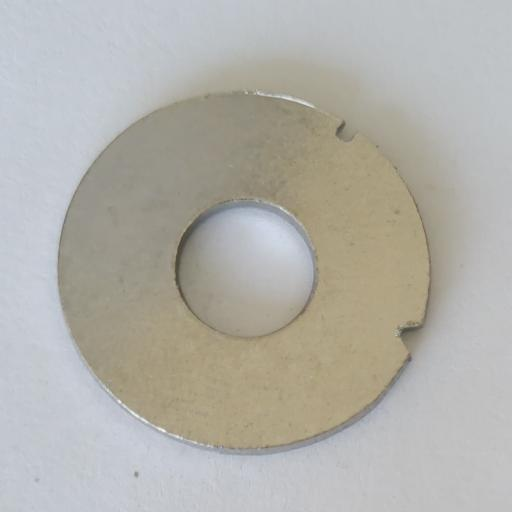burr: (395, 322, 423, 361), (335, 120, 359, 144)
